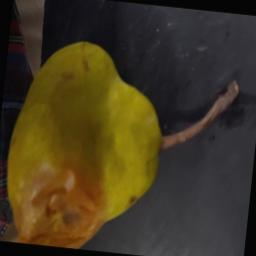Pear Rotten: (0, 16, 241, 256)
